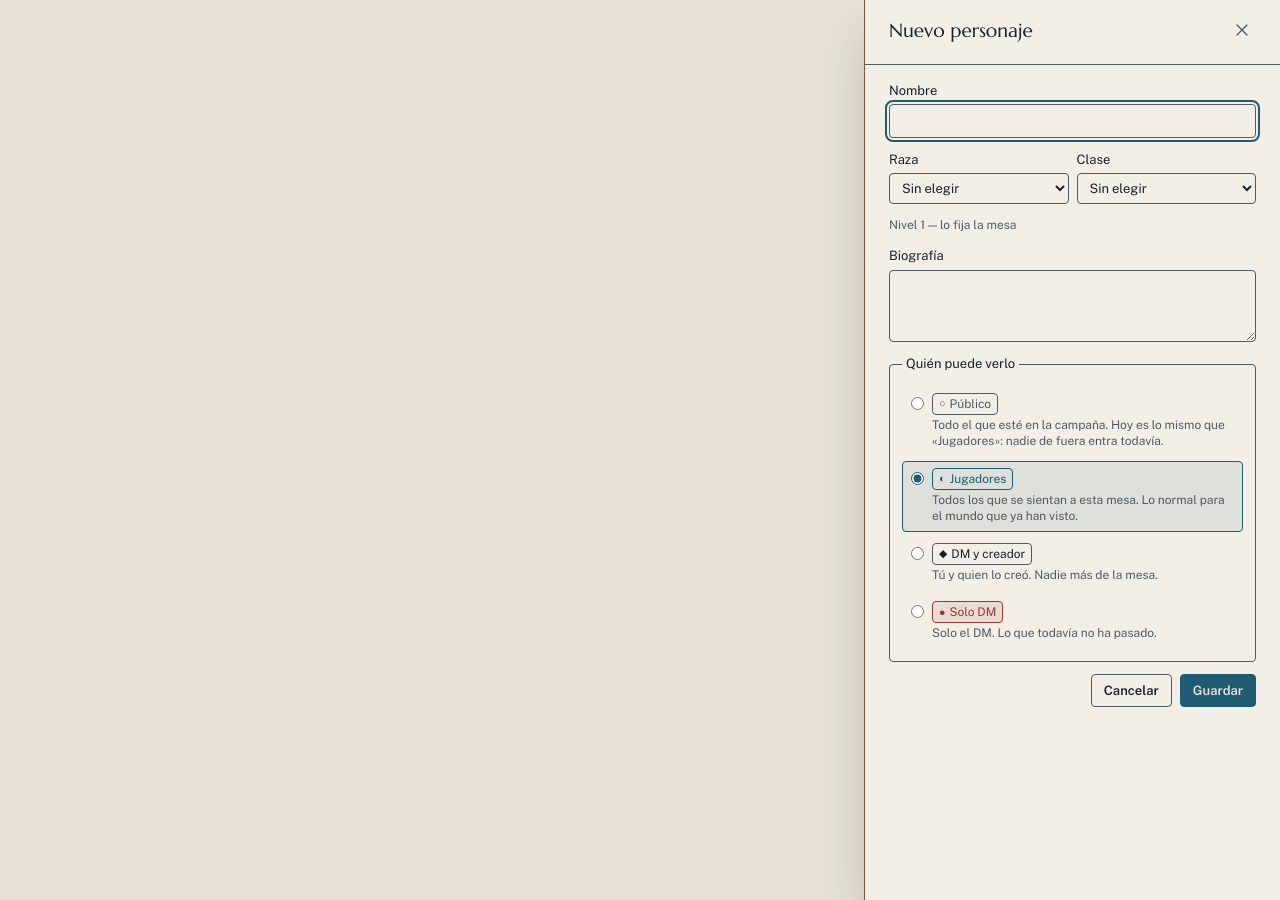
Test: CharacterEditor (crear) › shows the server error instead of failing silently
Type "Tordek" into the field labelled "Nombre" at {"x": 1072, "y": 121}, box [889,104,1256,138]
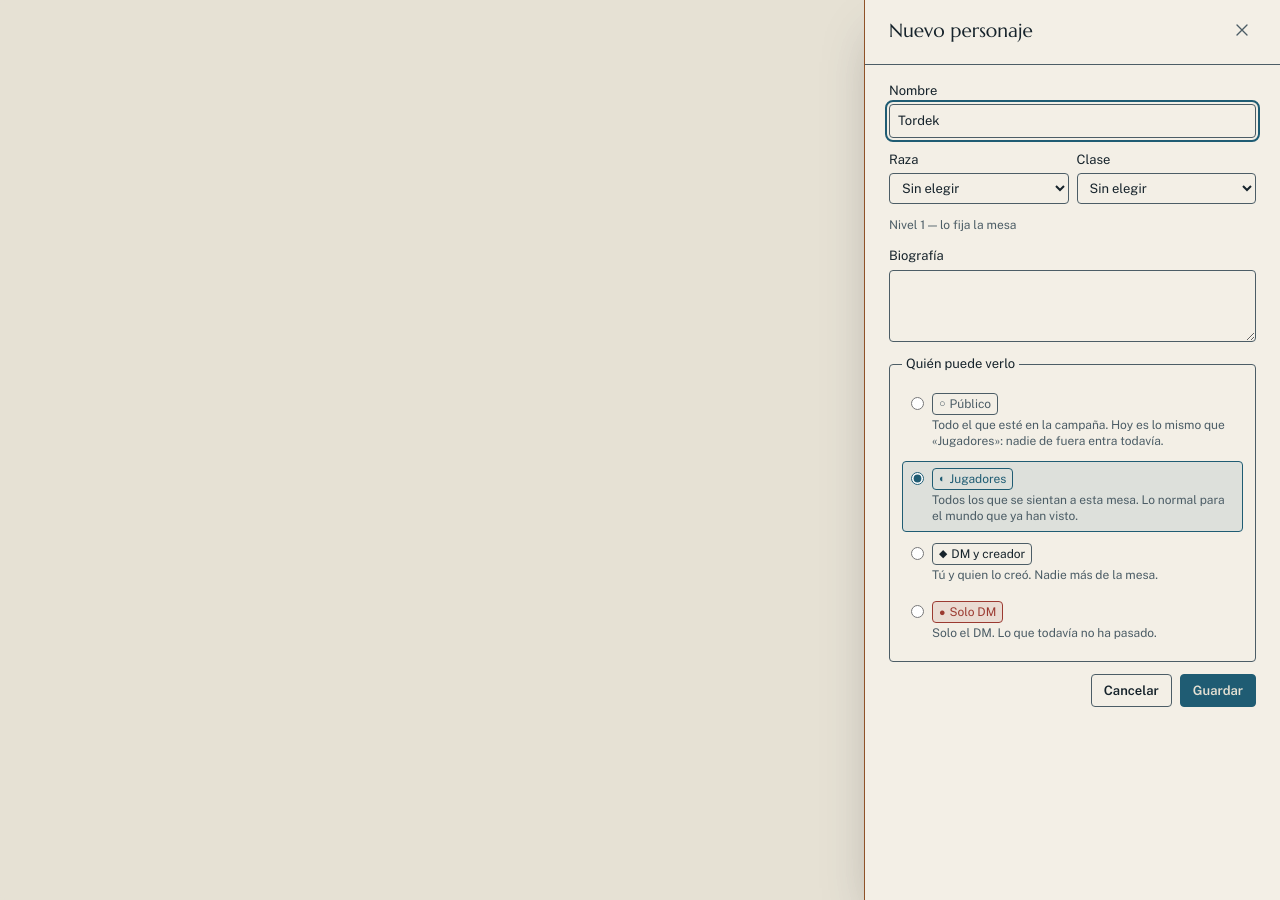
Click the button "Guardar" at {"x": 1218, "y": 691}, box [1180,674,1256,707]
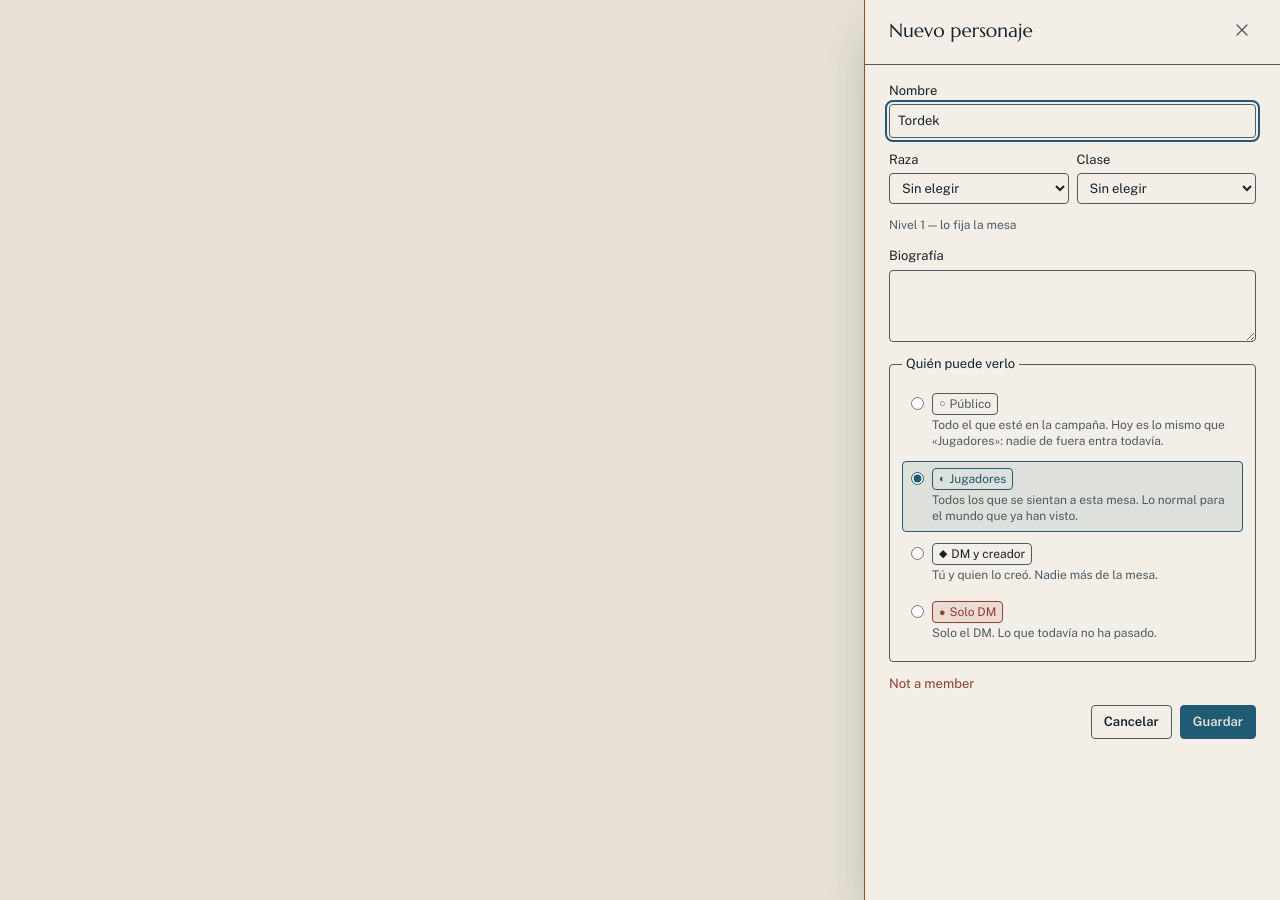
Expected: the text "Not a member" is shown, [889,676,974,691]
